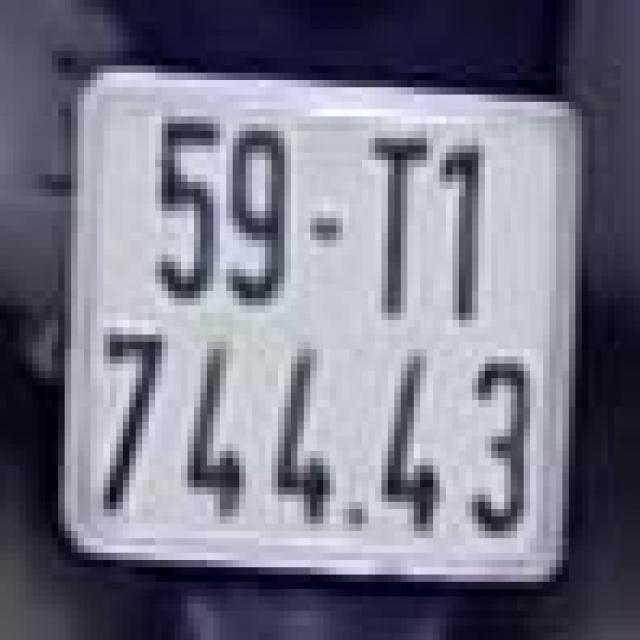1: (440, 120, 491, 324)
3: (472, 342, 536, 538)
4: (372, 334, 449, 546), (181, 335, 252, 538), (265, 346, 336, 534)
5: (149, 102, 226, 313)
7: (84, 309, 168, 520)
9: (230, 116, 300, 313)
T: (359, 124, 430, 320)
